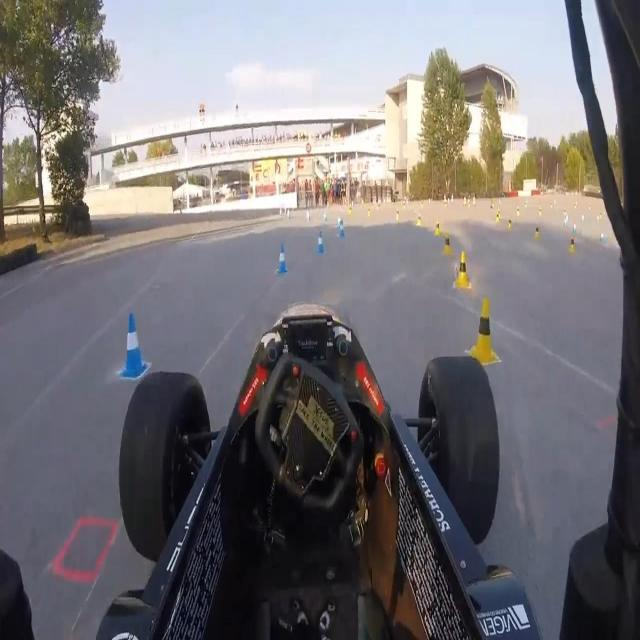blue_cone: (116, 310, 147, 380), (274, 239, 289, 278), (316, 230, 326, 256), (337, 220, 345, 239), (600, 230, 605, 247), (572, 222, 578, 236), (336, 210, 341, 226), (306, 210, 311, 222), (323, 212, 328, 222), (564, 216, 568, 228)
yellow_cone: (468, 297, 498, 365), (454, 250, 472, 290), (443, 232, 452, 256), (567, 234, 575, 253), (434, 219, 442, 237), (416, 212, 422, 226), (534, 227, 540, 240), (507, 217, 512, 231), (516, 204, 521, 217), (396, 209, 401, 221), (496, 212, 501, 222), (349, 204, 352, 215), (367, 207, 370, 217)
